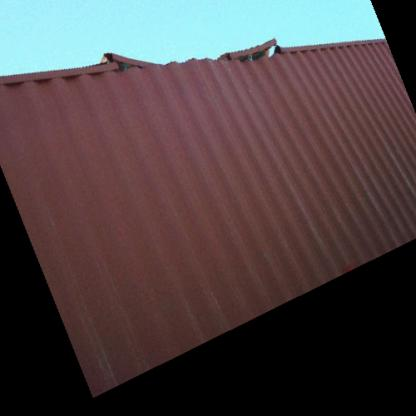Damage: (213, 36, 336, 68), (100, 45, 175, 82)
